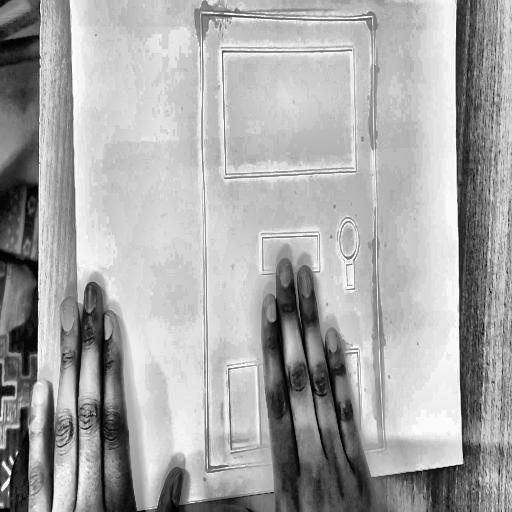bottom_right: (458, 452, 469, 471)
door: (194, 1, 390, 478)
